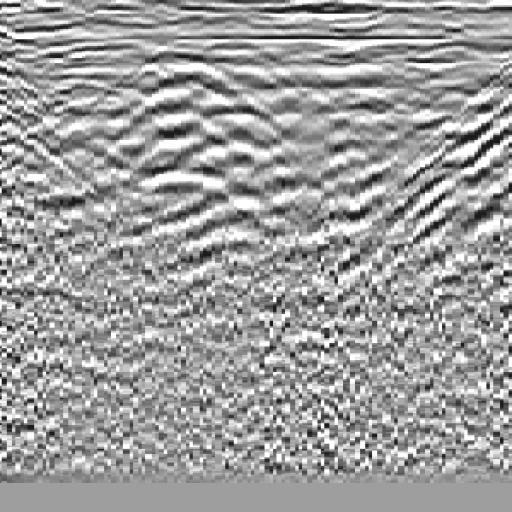metalic: (95, 43, 292, 247)
nonmetalic: (396, 45, 512, 260)
